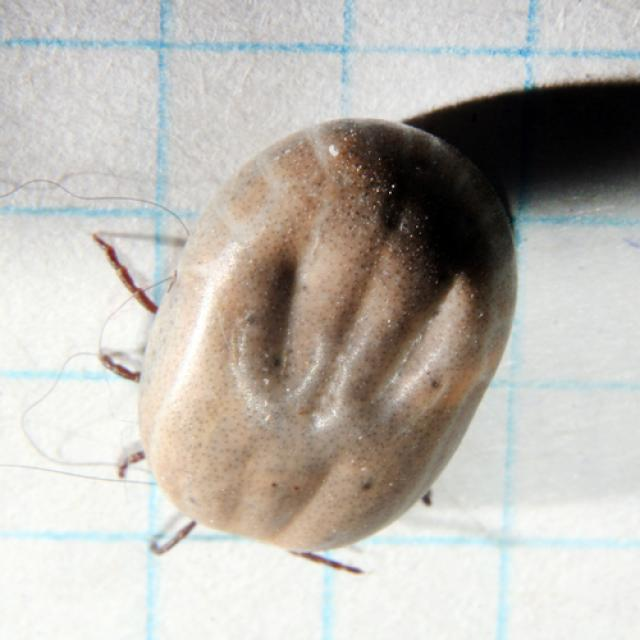Dermacentor Reticulatus-F-Fed: (88, 116, 516, 575)
